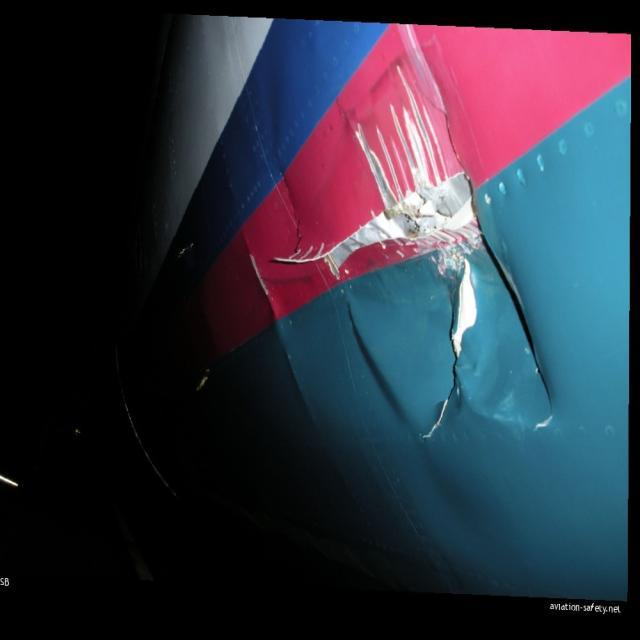crack: (417, 259, 480, 451)
dent: (350, 303, 410, 433), (476, 343, 518, 418), (482, 292, 512, 332)
